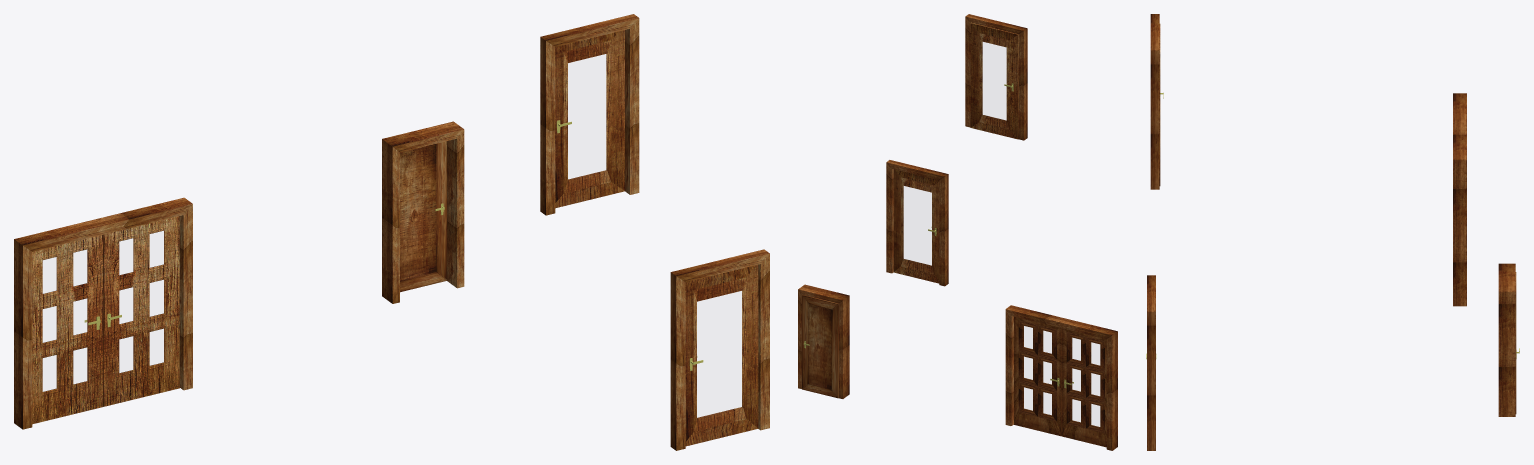
File: puertas.dae
3 renders of one model, left to right at view 1: azimuth 30°, elevation 25°; view 2: azimuth 150°, elevation 25°; view 3: azimuth 270°, elevation 25°, orthographic. The views are drawn at different scales.
Parts seen in each view (by area): view 1: puerta principala derecha, puerta principala izquierda, marco puerta principal, puerta_delantera, puerta segundo piso, marco?puerta banio, puerta banio, marco puerta segundo piso, marco_puerta_delantera; view 2: puerta principala derecha, puerta principala izquierda, marco puerta principal, puerta banio, puerta segundo piso, puerta_delantera, marco_puerta_delantera, marco puerta segundo piso, marco?puerta banio; view 3: marco puerta principal, marco?puerta banio, marco puerta segundo piso, marco_puerta_delantera.
Boxes of the visible parts, x1=… form: puerta principala derecha: x1=103, y1=216, x2=179, y2=406; puerta principala izquierda: x1=32, y1=235, x2=103, y2=424; marco puerta principal: x1=14, y1=197, x2=192, y2=429; puerta_delantera: x1=685, y1=264, x2=758, y2=446; puerta segundo piso: x1=555, y1=30, x2=624, y2=208; marco?puerta banio: x1=382, y1=121, x2=464, y2=303; puerta banio: x1=400, y1=141, x2=446, y2=292; marco puerta segundo piso: x1=540, y1=14, x2=639, y2=215; marco_puerta_delantera: x1=670, y1=249, x2=769, y2=450; puerta principala derecha: x1=1014, y1=316, x2=1061, y2=436; puerta principala izquierda: x1=1062, y1=328, x2=1106, y2=447; marco puerta principal: x1=1005, y1=305, x2=1117, y2=450; puerta banio: x1=802, y1=295, x2=838, y2=398; puerta segundo piso: x1=970, y1=22, x2=1018, y2=139; puerta_delantera: x1=893, y1=169, x2=939, y2=283; marco_puerta_delantera: x1=886, y1=160, x2=948, y2=286; marco puerta segundo piso: x1=965, y1=14, x2=1027, y2=140; marco?puerta banio: x1=798, y1=284, x2=849, y2=398; marco puerta principal: x1=1453, y1=93, x2=1466, y2=306; marco?puerta banio: x1=1498, y1=263, x2=1515, y2=416; marco puerta segundo piso: x1=1150, y1=14, x2=1159, y2=189; marco_puerta_delantera: x1=1147, y1=275, x2=1155, y2=450.
Bounding box in the file's own units: 670 × 489 × 515.
3 materials, 1 textured.
